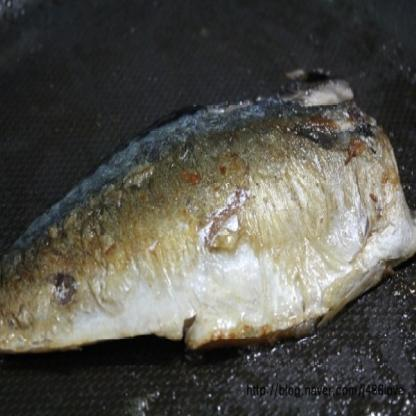Peixe: (0, 70, 416, 386)
